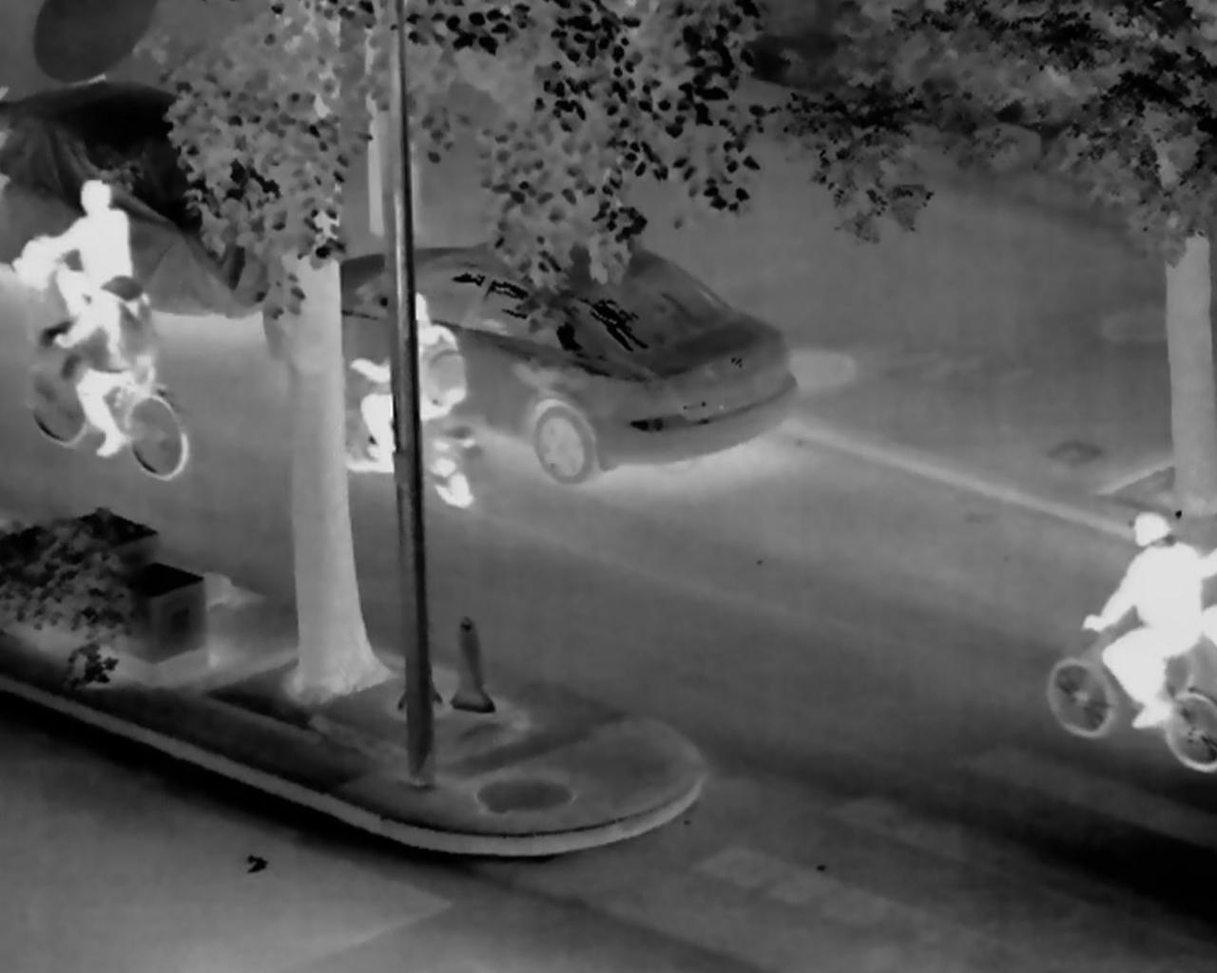person: (1084, 511, 1204, 729), (353, 291, 462, 465), (55, 265, 152, 455), (25, 181, 133, 346)
